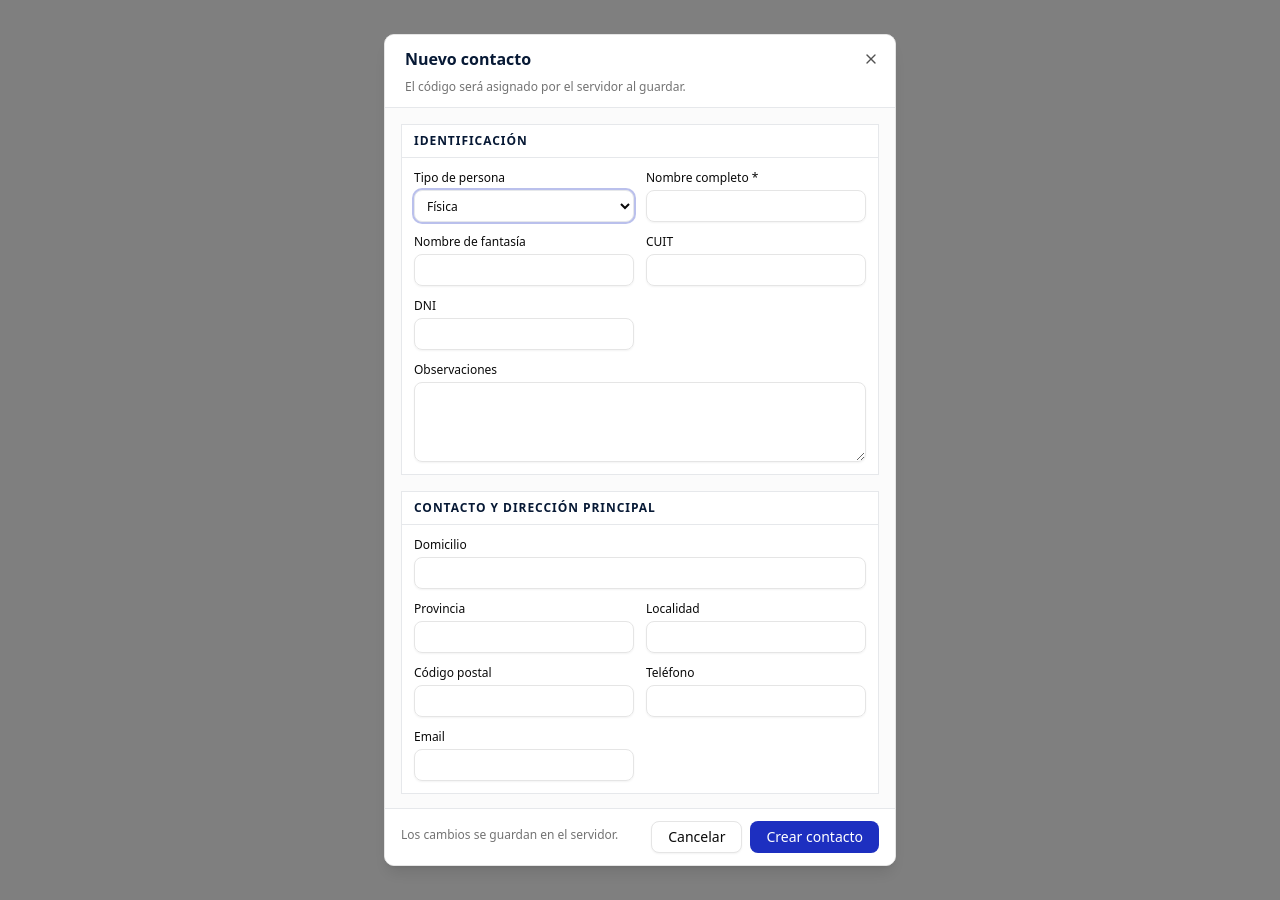
Test: Contacts backend-authority UI › keeps a failed create unsaved instead of falling back to local state
Type "Ana" into the field labelled "Nombre completo *".
click(756, 206); type("Ana")  # box [646,190,866,222]
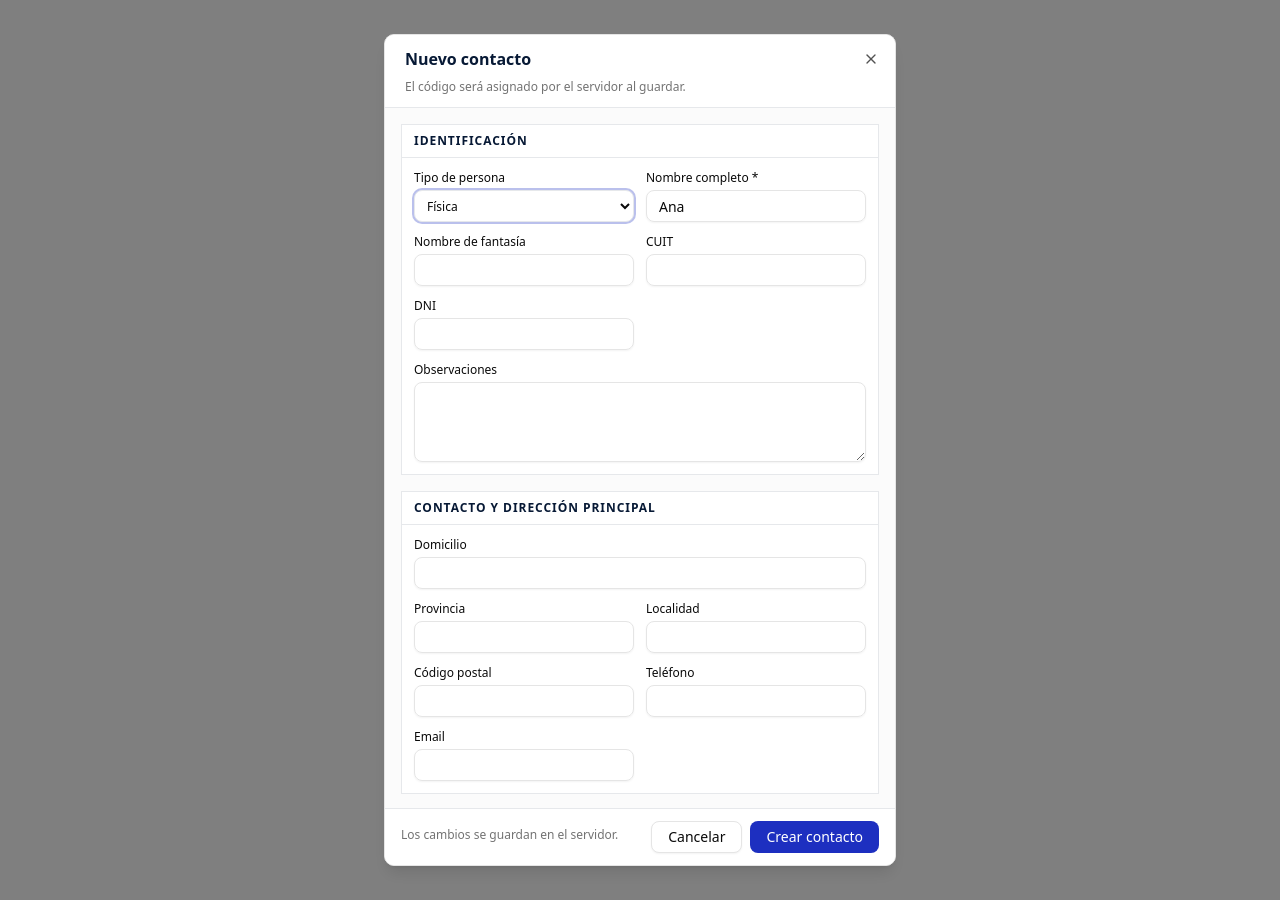
Click the button "Crear contacto".
click(815, 837)  # box [750,821,879,853]
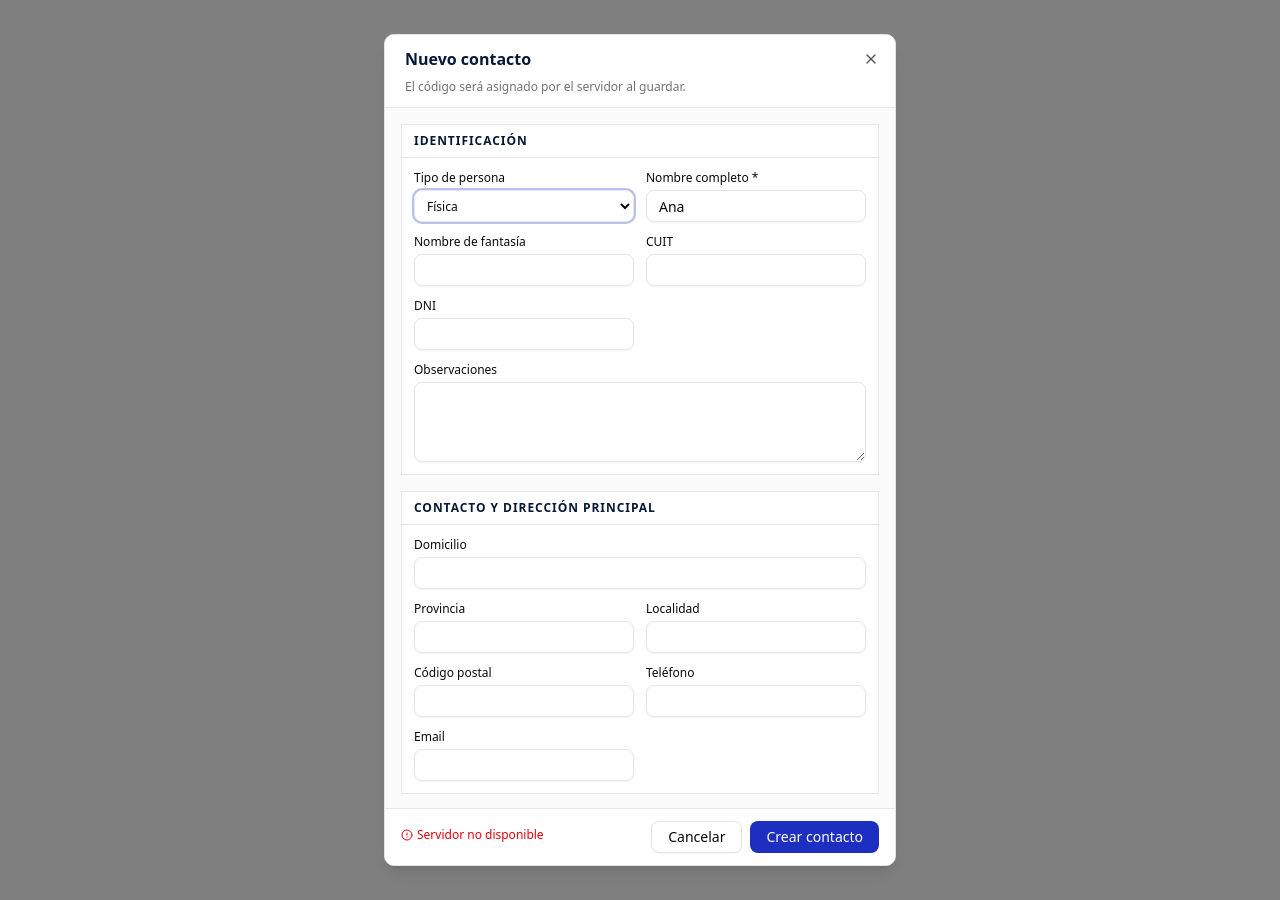
Check: the text "Servidor no disponible" is shown, box [401,827,544,843]
